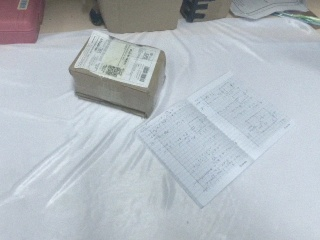box: (69, 32, 166, 119), (91, 1, 186, 34), (179, 1, 233, 23)
